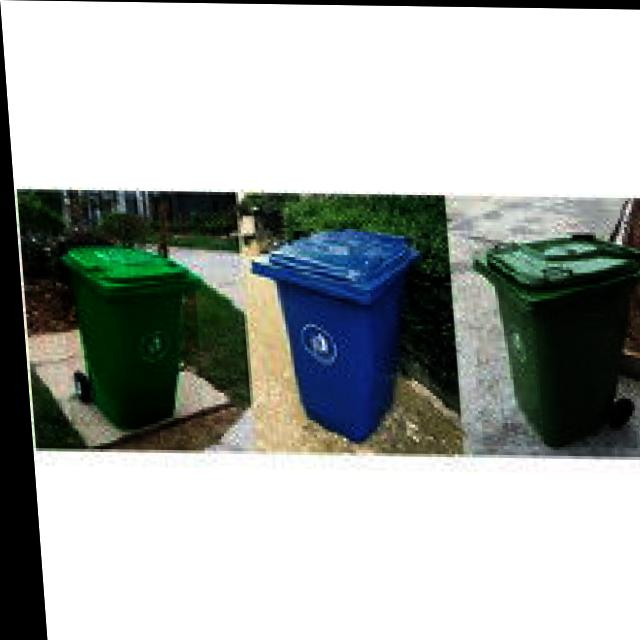garbage_bin: (246, 224, 427, 441), (464, 229, 640, 446), (55, 242, 199, 427)
